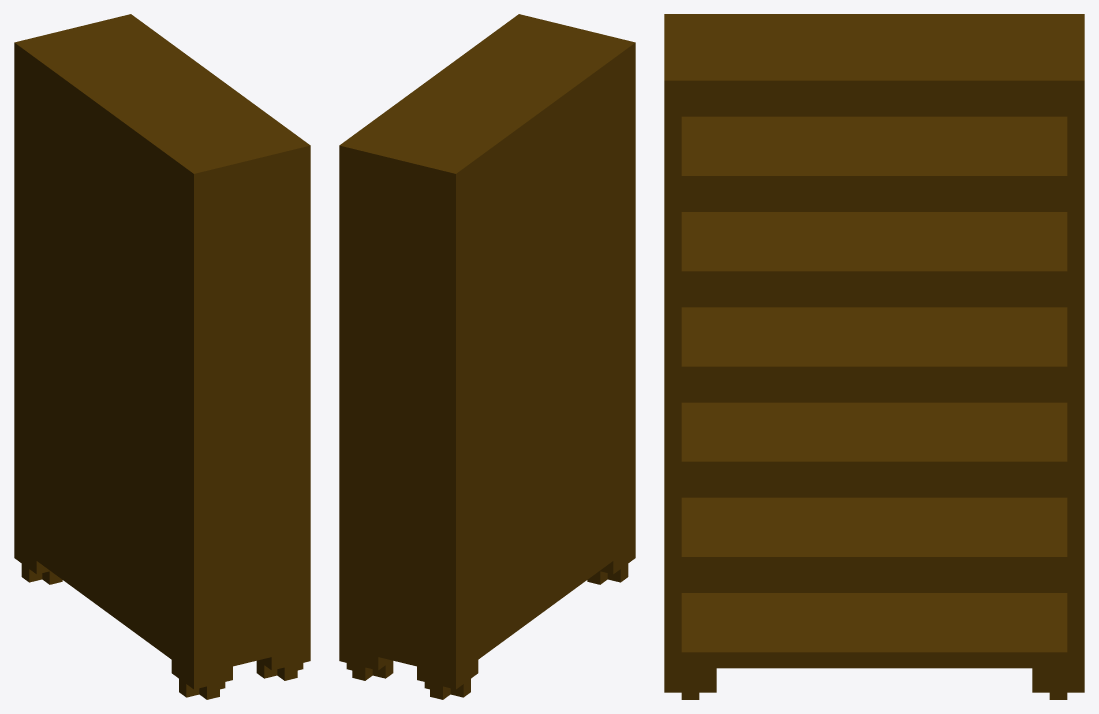
Rendered from F_Bookshelf.obj.
The picture shows the model from 3 angles, left to right: view 1: azimuth 30°, elevation 25°; view 2: azimuth 150°, elevation 25°; view 3: azimuth 270°, elevation 25°; orthographic projection. The views are drawn at different scales.
Size of the model in its own units: 0.9 by 3.9 by 2.4.
Materials: 1 (1 with a texture image).
